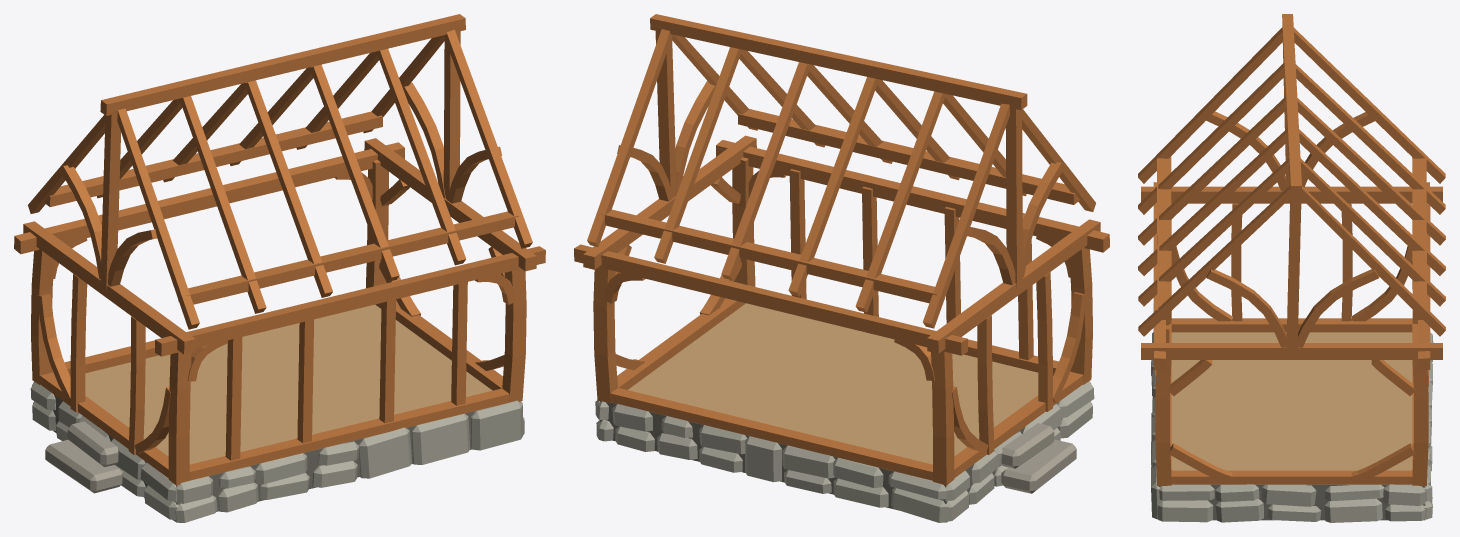
File: frame.glb
3 renders of one model, left to right at view 1: azimuth 30°, elevation 25°; view 2: azimuth 150°, elevation 25°; view 3: azimuth 270°, elevation 25°, orthographic. The views are drawn at different scales.
Parts seen in each view (by area): view 1: timber_frame, rafters, floor, foundation_stones, door_step, foundation_core; view 2: timber_frame, floor, rafters, foundation_stones, door_step, foundation_core; view 3: timber_frame, rafters, floor, foundation_stones, foundation_core.
Part boxes in pixels (x1,y1,x2,y2): timber_frame: (14,31,545,485); rafters: (28,14,532,329); floor: (85,304,492,464); foundation_stones: (30,381,524,522); door_step: (45,421,123,493); foundation_core: (53,395,520,511); timber_frame: (574,26,1109,485); floor: (628,303,1038,464); rafters: (587,14,1095,328); foundation_stones: (595,381,1094,522); door_step: (1001,423,1076,493); foundation_core: (600,401,1061,510); timber_frame: (1141,25,1442,485); rafters: (1138,14,1445,336); floor: (1171,332,1412,470); foundation_stones: (1151,332,1433,522); foundation_core: (1158,484,1425,520).
Bounding box in the file's own units: 7.92 × 6.92 × 5.55.
